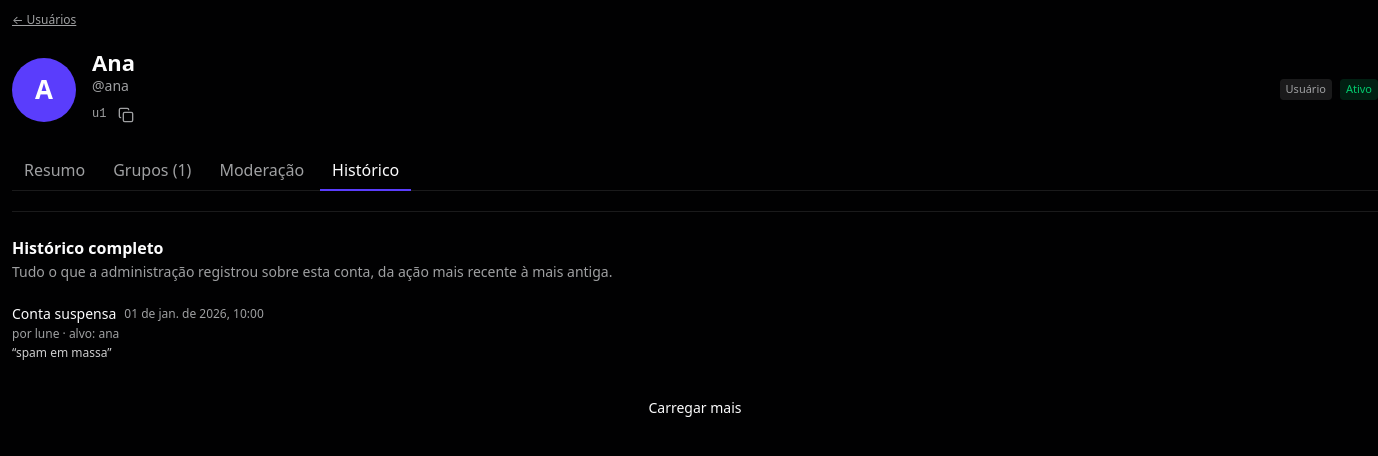
Test: UserDetailPage › the history tab reads the complete history by target, with a cursor
The width and height of the screenshot is (1378, 456).
Expected: the text "Conta suspensa" is shown, [12,304,116,324]
Expected: the text "“spam em massa”" is shown, [12,344,112,361]
Click the button "Carregar mais" at (695, 408), box [638,392,752,424]
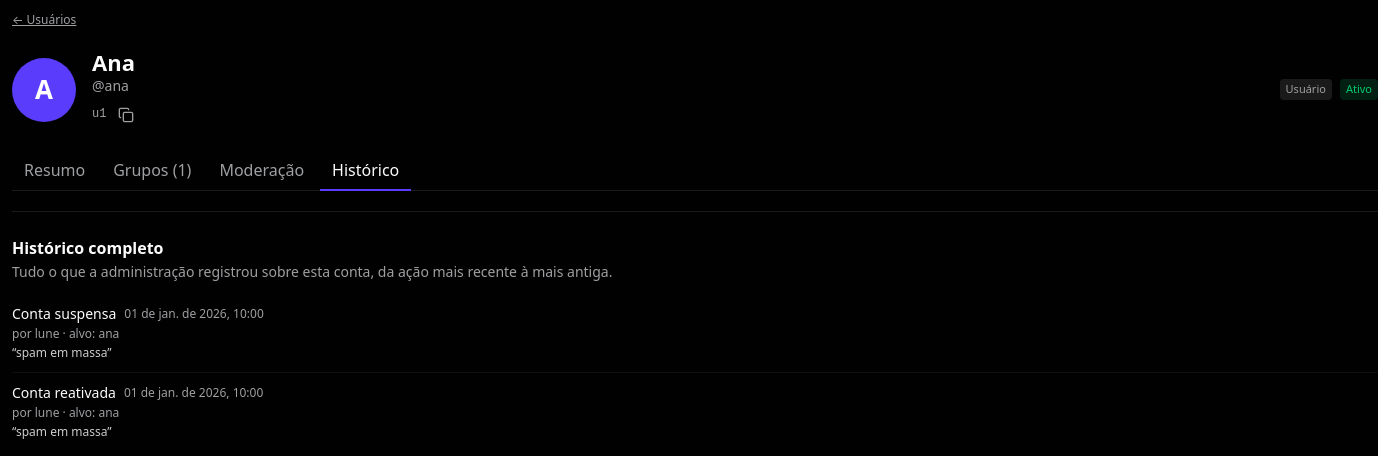
Now the text "Conta reativada" is shown, box [12,383,116,403]
